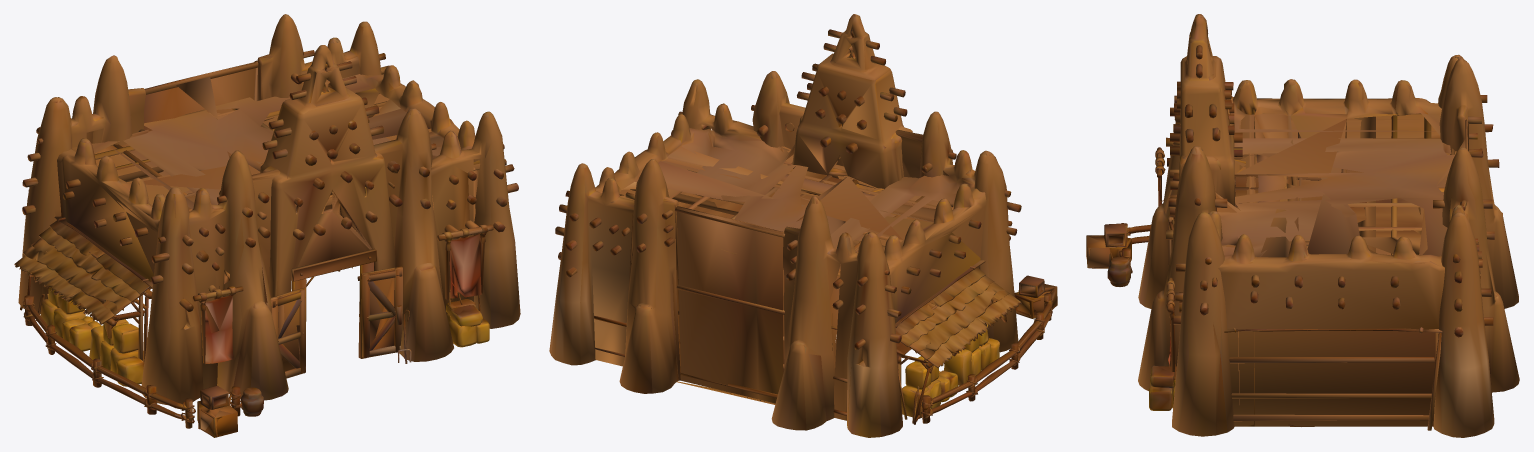
The model's file is preview.glb.
The picture shows the model from 3 angles, left to right: view 1: azimuth 30°, elevation 25°; view 2: azimuth 150°, elevation 25°; view 3: azimuth 270°, elevation 25°; orthographic projection. The views are drawn at different scales.
Parts seen in each view (by area): view 1: Mesh_0; view 2: Mesh_0; view 3: Mesh_0.
Part boxes in pixels (left/top/right/bottom): Mesh_0: left=14, top=14, right=520, bottom=437; Mesh_0: left=549, top=14, right=1057, bottom=437; Mesh_0: left=1086, top=14, right=1519, bottom=437.
Bounding box in the file's own units: 12 × 9 × 10.83.
